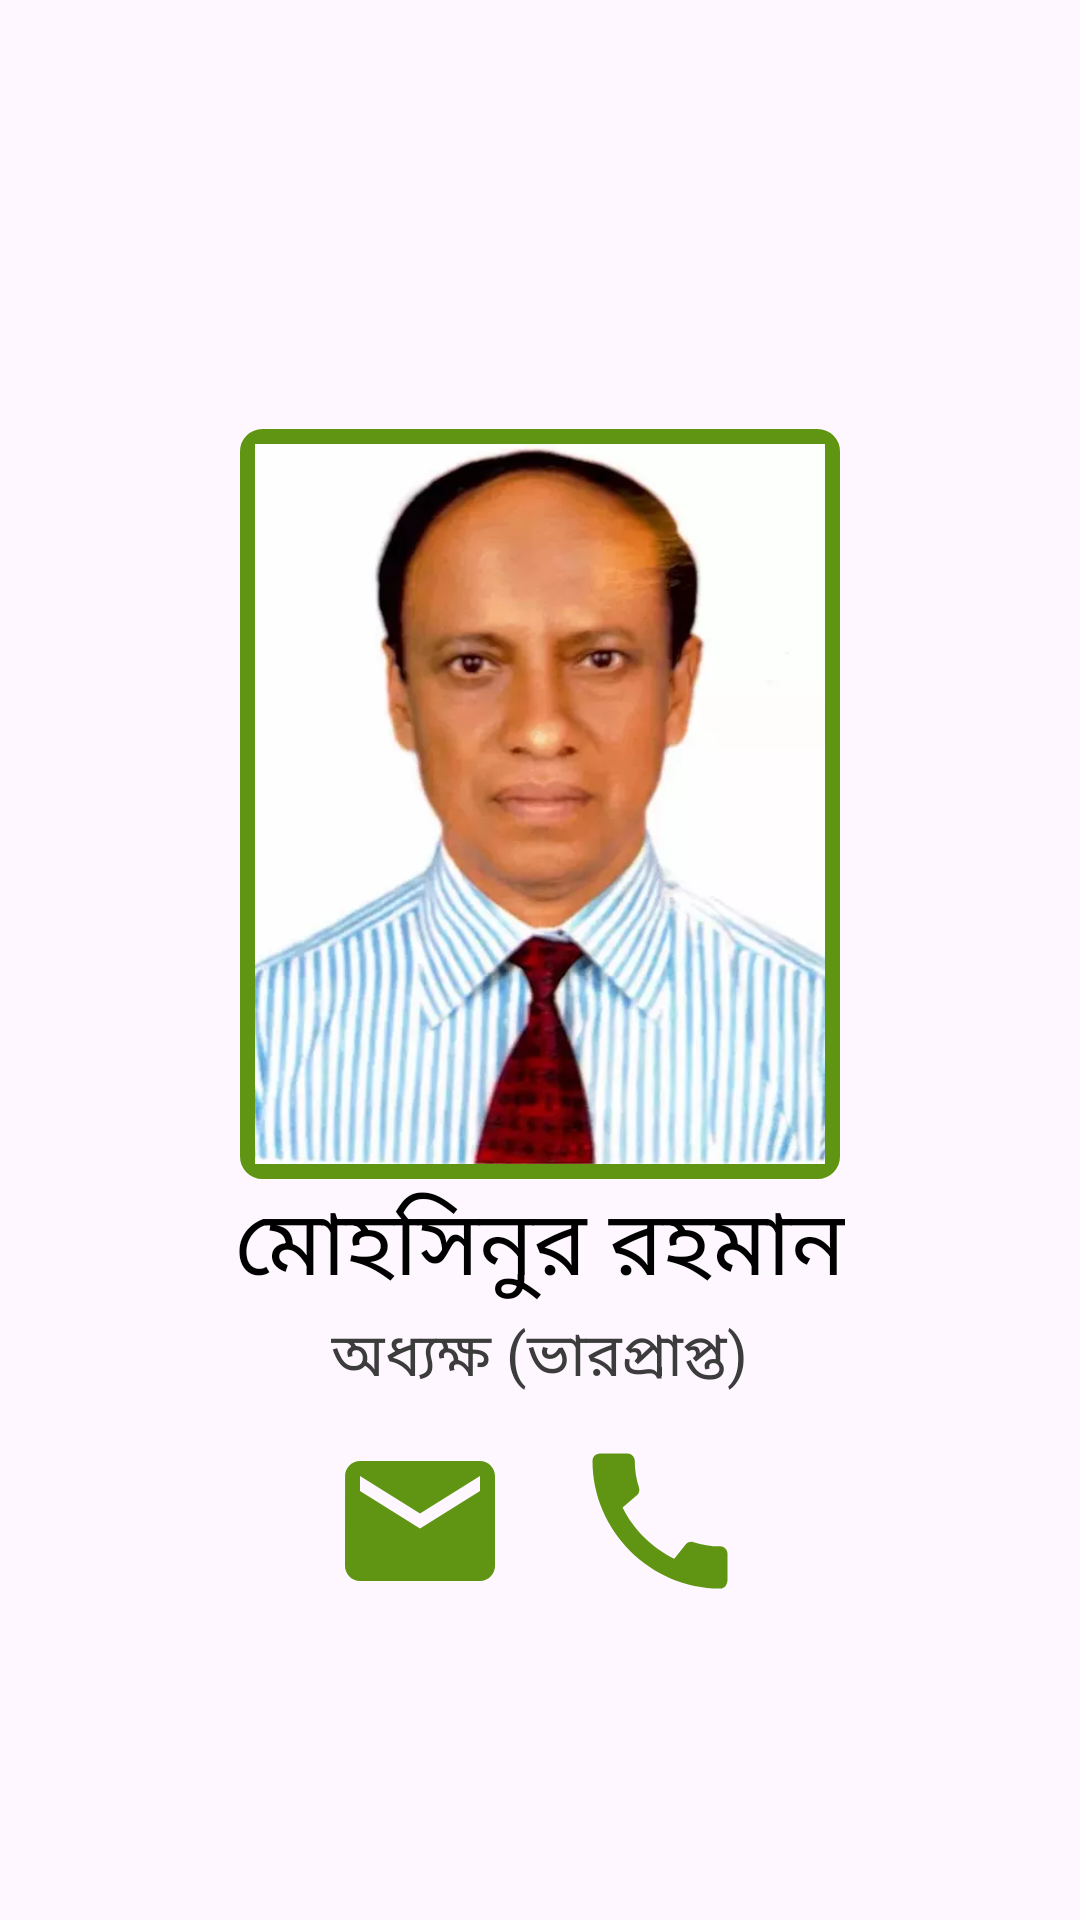

Screen size 1080px×1920px. Icon name, then its box in pixels as (x1, y1, x2, y2):
call: (592, 1453, 728, 1589)
email: (345, 1461, 495, 1581)
